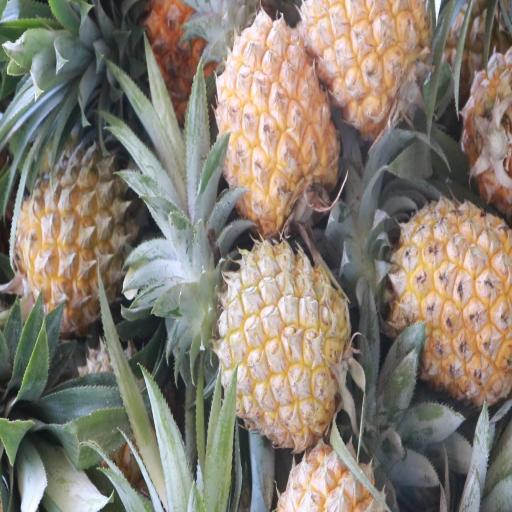------------------------------: (10, 157, 134, 336)
Pineapple - v8 v1: (216, 236, 347, 450), (212, 16, 339, 226), (391, 196, 512, 404), (300, 0, 430, 129)
